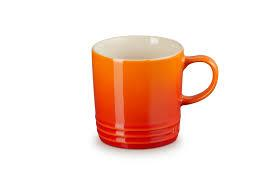Mug: (75, 25, 224, 156)
